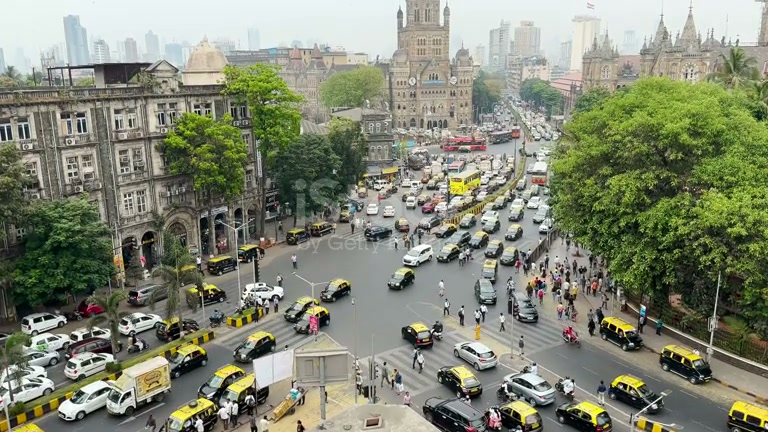bus: (726, 399, 768, 432), (448, 166, 481, 197)
car: (198, 362, 259, 413), (56, 380, 113, 422), (607, 372, 665, 413), (424, 396, 489, 432), (658, 344, 713, 384), (159, 396, 220, 432), (555, 399, 613, 432), (503, 371, 556, 406), (436, 363, 483, 399), (166, 341, 209, 379), (63, 352, 115, 382), (232, 330, 277, 364), (600, 316, 643, 351), (453, 340, 498, 371), (21, 312, 67, 336), (243, 282, 284, 304), (401, 321, 433, 348), (320, 278, 352, 302), (387, 266, 415, 291), (403, 244, 434, 266), (513, 297, 538, 323), (473, 278, 497, 305), (364, 224, 391, 241), (499, 248, 517, 267), (504, 225, 523, 242)
truck: (105, 355, 173, 418), (659, 343, 712, 384), (600, 316, 643, 351)
